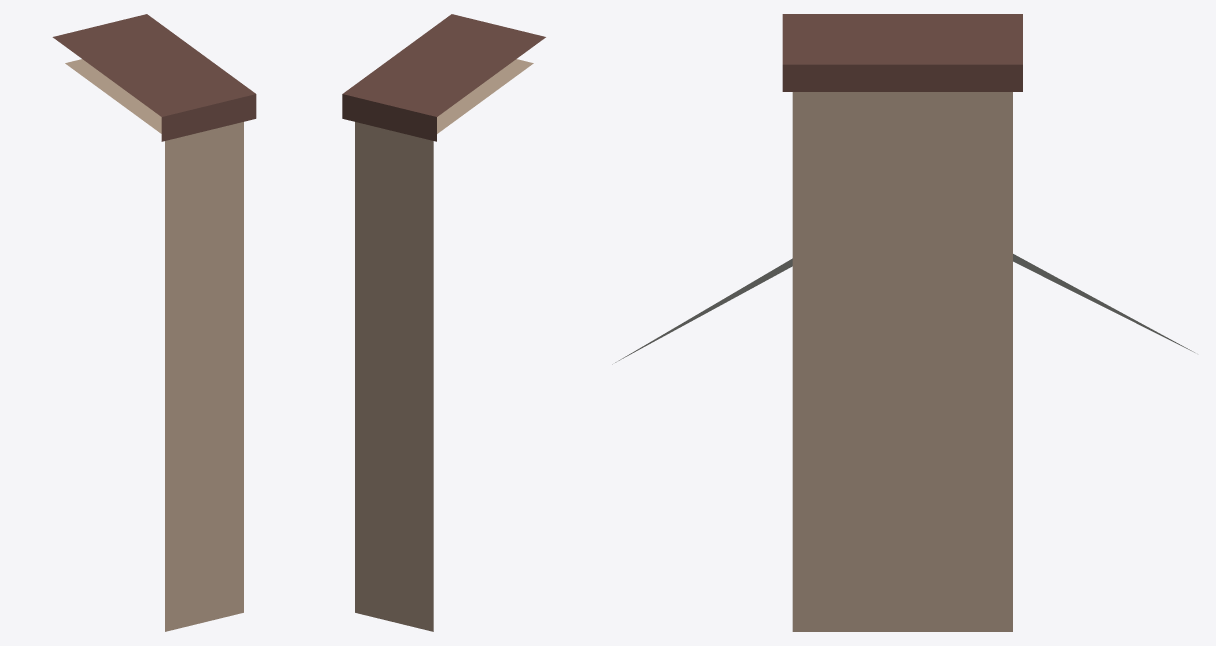
File: ato2_chamine_1950.glb
The picture shows the model from 3 angles, left to right: view 1: azimuth 30°, elevation 25°; view 2: azimuth 150°, elevation 25°; view 3: azimuth 270°, elevation 25°; orthographic projection. The views are drawn at different scales.
Parts seen in each view (by area): view 1: Malha_0; view 2: Malha_0; view 3: Malha_0.
Part boxes in pixels (x1,y1,x2,y2): Malha_0: [52, 14, 256, 631]; Malha_0: [342, 14, 545, 631]; Malha_0: [612, 14, 1194, 631].
Bounding box in the file's own units: 1.2 × 6.3 × 5.91.
